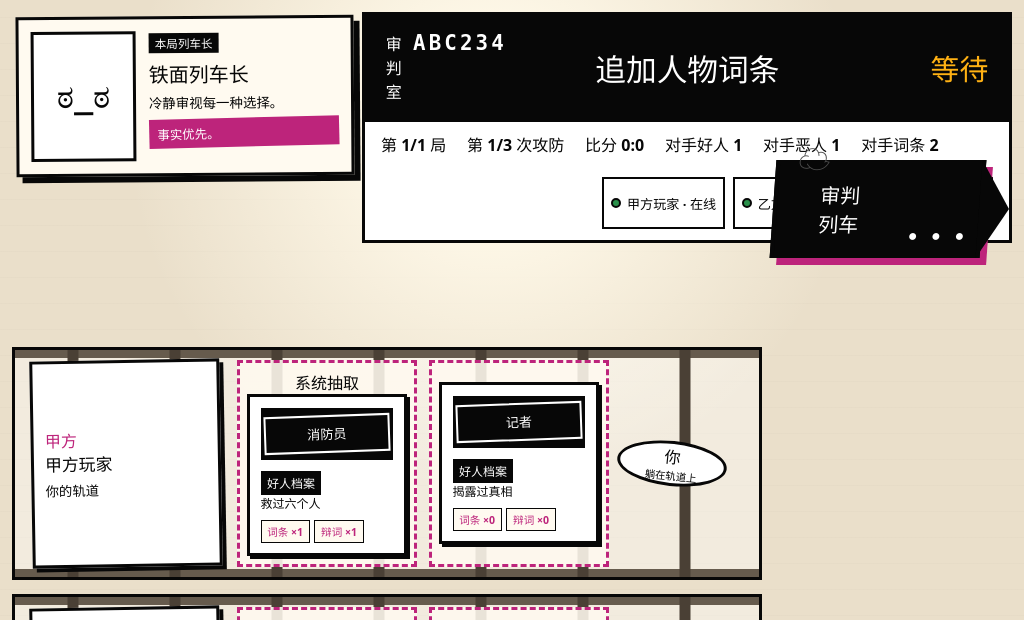
trait placement drag › uses the same compact rail dossier and detail drawer during trait placement
This screenshot has width=1024, height=620.
Expected: the text "词条 ×1" is shown, x1=261 y1=520 x2=310 y2=543
Expected: the text "曾主动偿还所有欠款" is not shown
What coordinates should you click on to do the following:
click the button with aria-label "查看消防员人物档案"
I would click on:
 (327, 475)
Its box is x1=247 y1=394 x2=407 y2=556.
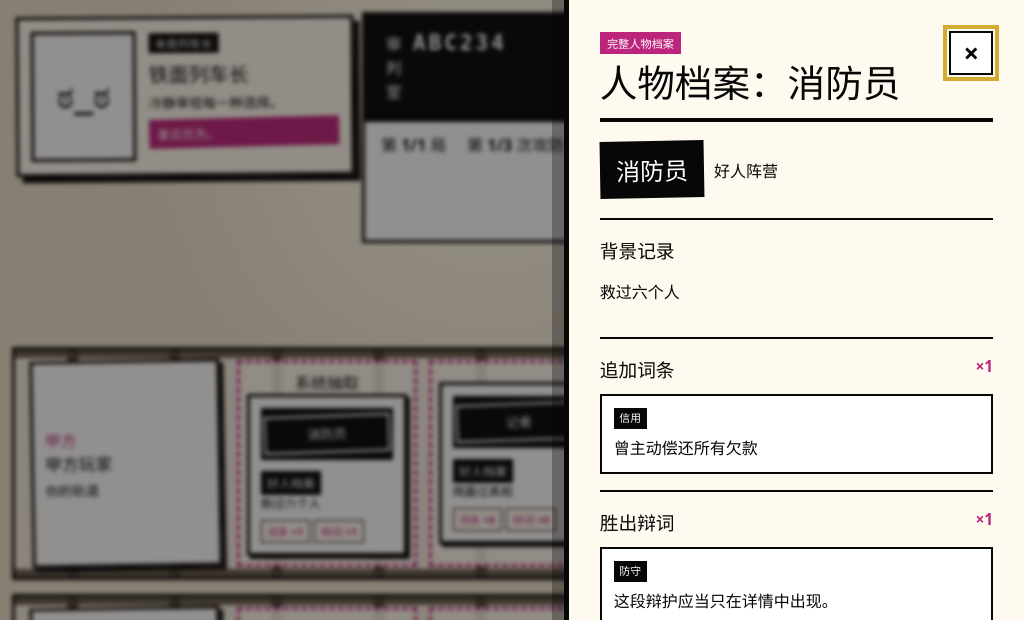
Now the list item "曾主动偿还所有欠款" is shown, box x1=614 y1=436 x2=758 y2=458
